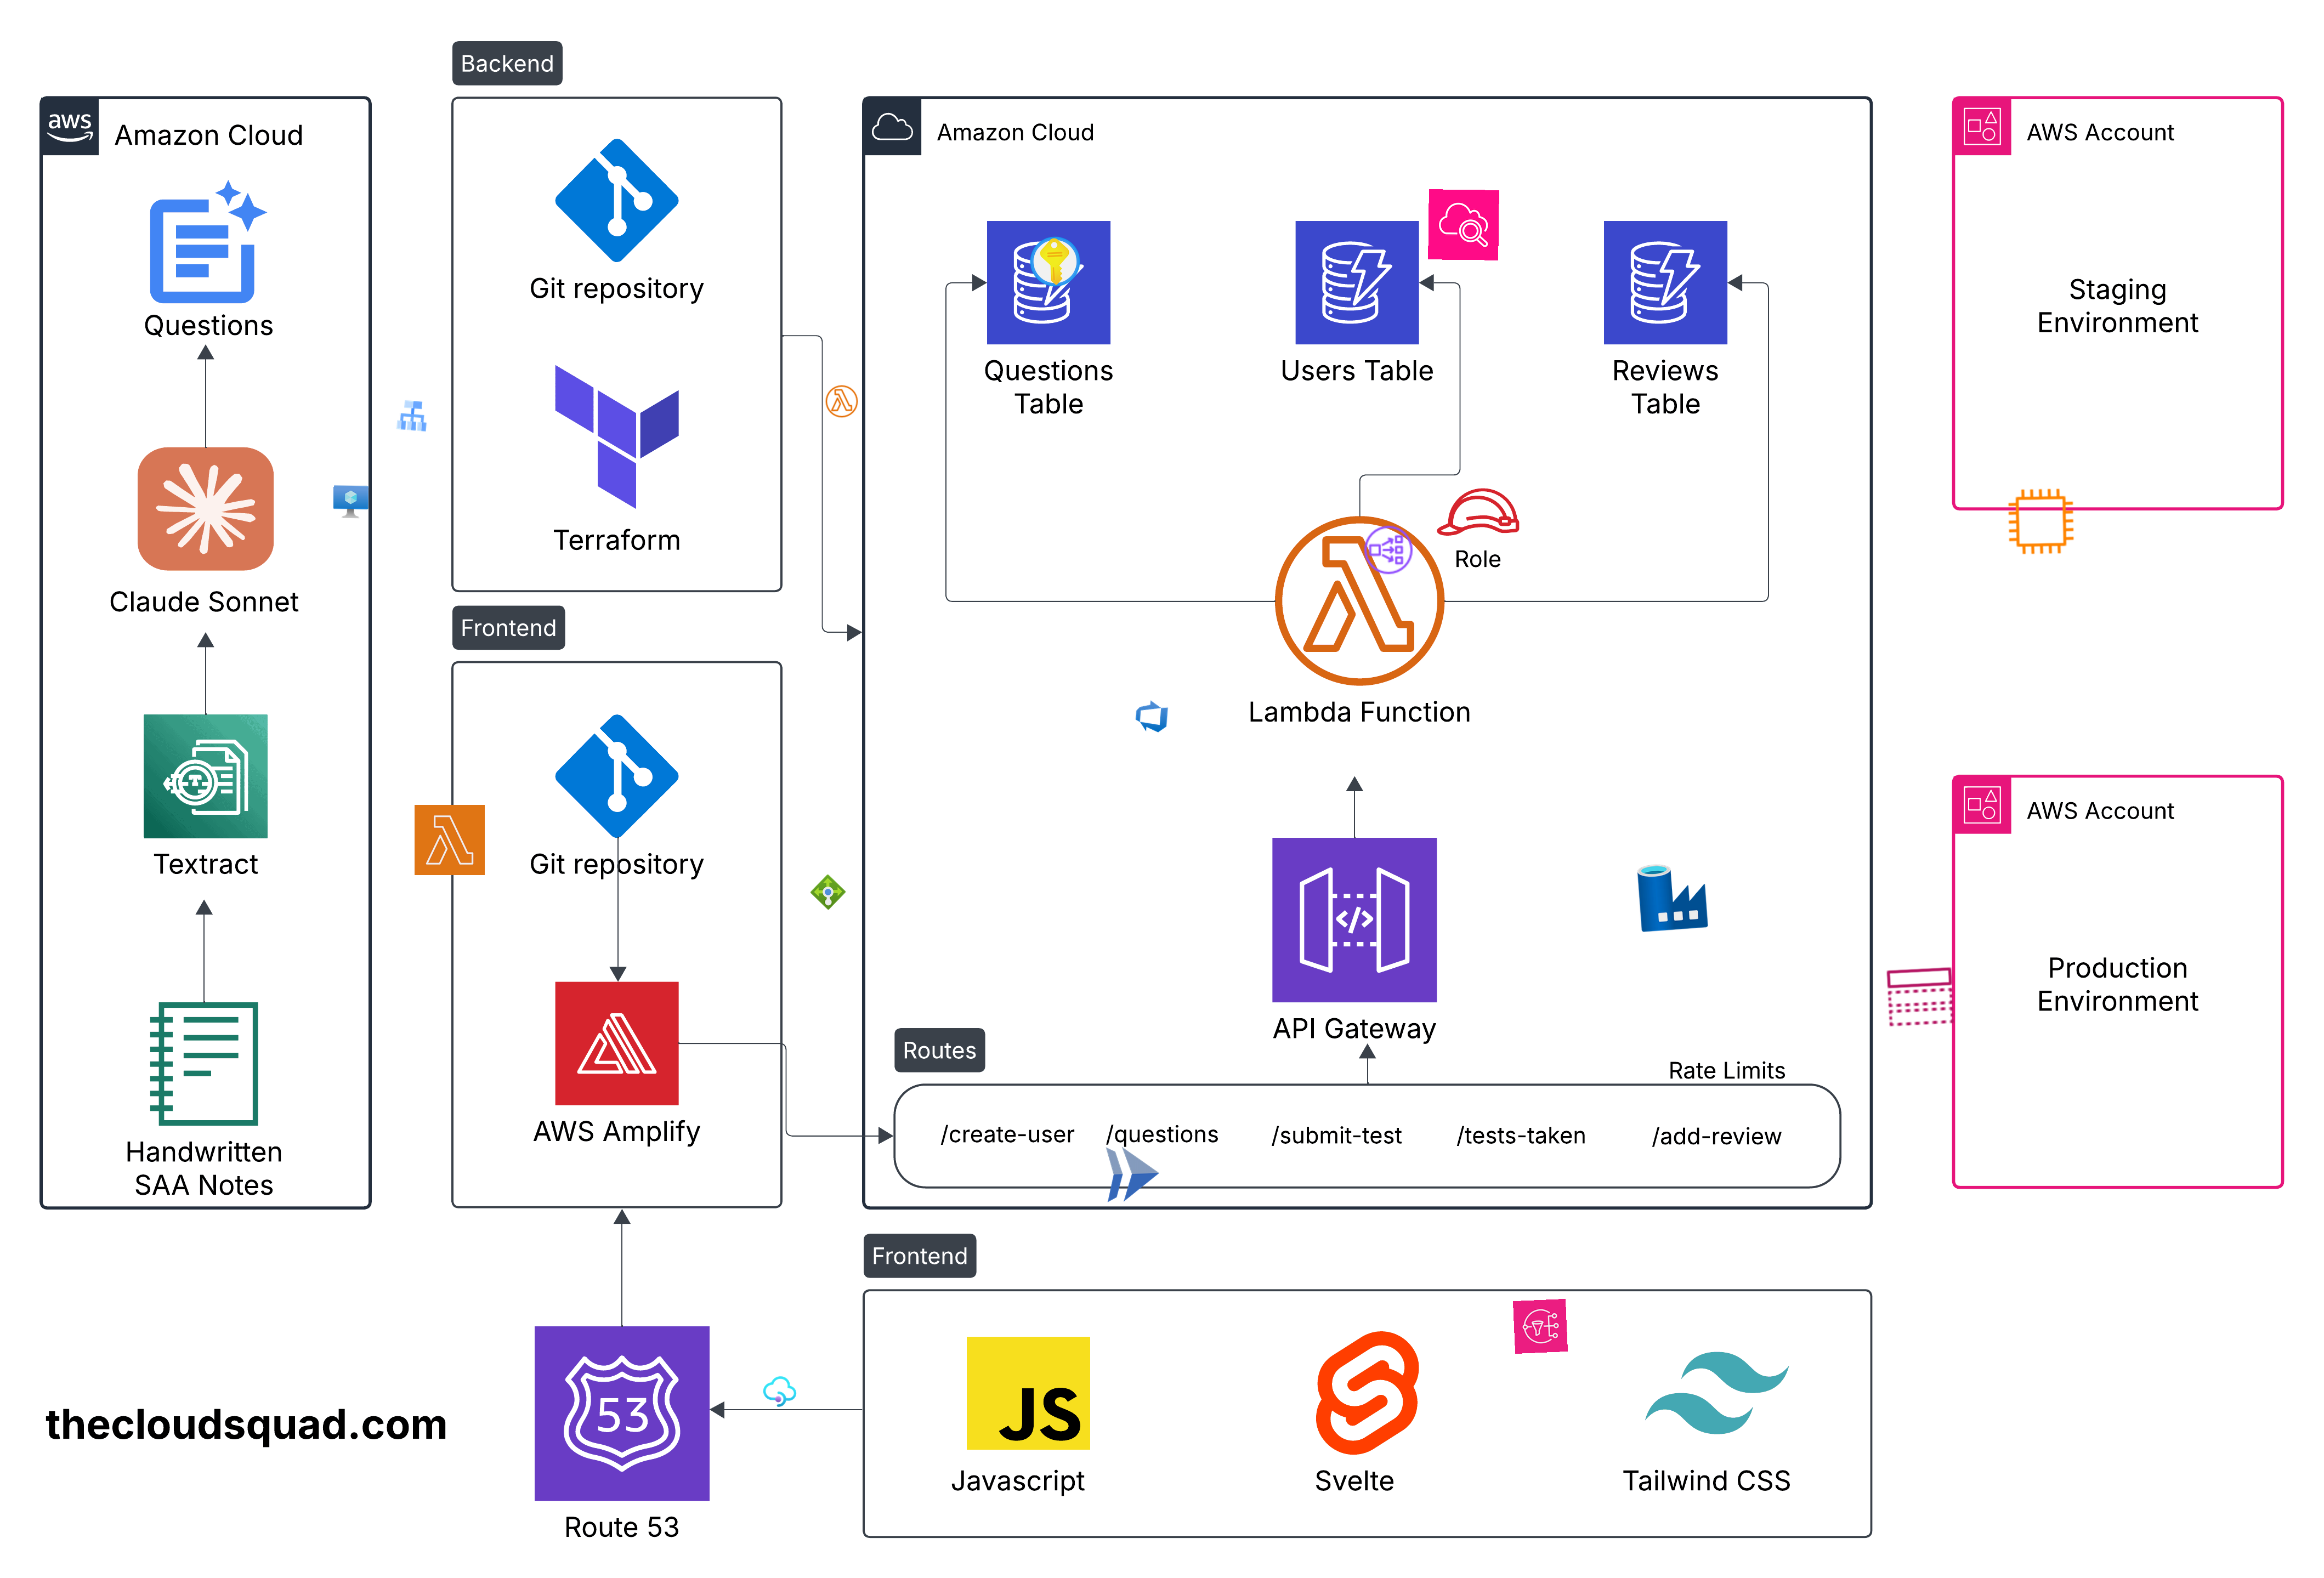aws_amazon_cloudwatch: (1428, 188, 1500, 261)
aws_amazon_simple_notification_service: (1512, 1298, 1569, 1354)
aws_ec2_instance: (2005, 486, 2078, 558)
aws_elastic_load_balancing_network_load_balancer: (1361, 523, 1416, 578)
aws_lambda: (414, 805, 486, 875)
aws_lambda_lambda_function: (824, 384, 859, 419)
aws_simple_notification_service_topic: (1884, 960, 1958, 1034)
azure_api_management_services: (761, 1374, 798, 1411)
azure_data_factories: (1634, 859, 1710, 935)
azure_devops: (1132, 697, 1171, 734)
azure_key_vaults: (1026, 234, 1083, 289)
azure_load_balancers: (810, 874, 847, 911)
azure_virtual_machine: (333, 484, 370, 521)
gcp_cloud_load_balancing: (393, 396, 431, 435)
gcp_cloud_run: (1095, 1138, 1169, 1210)
